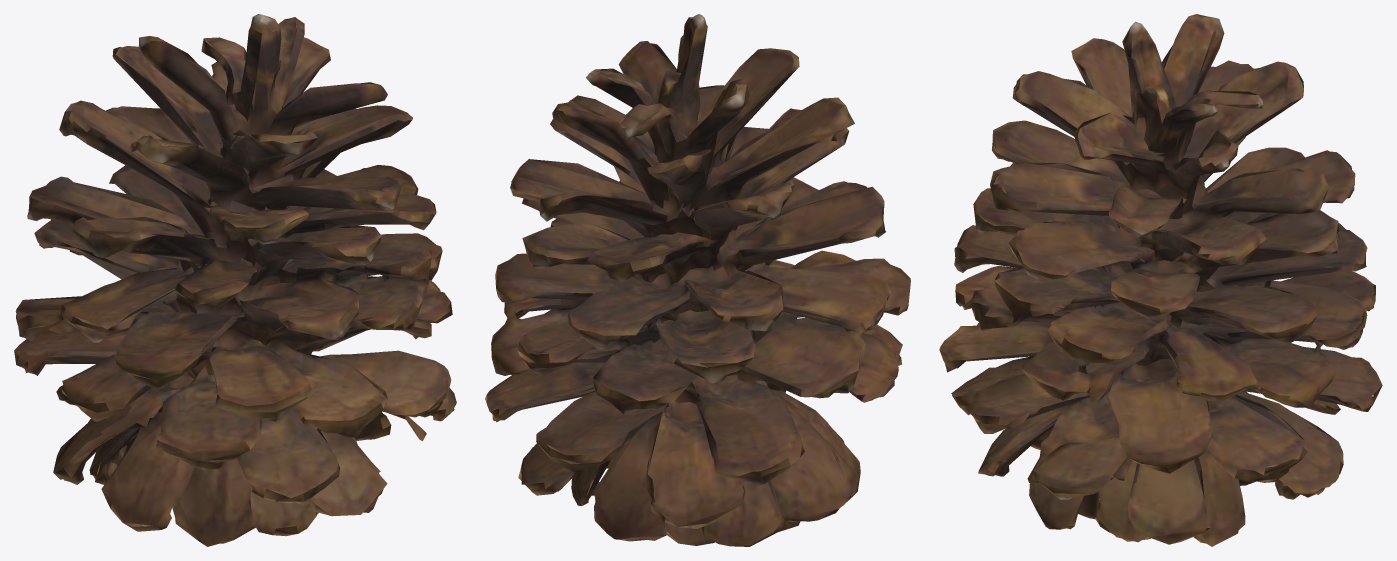
The model's file is pinecone.glb.
3 views of the same model, side by side, from view 1: azimuth 30°, elevation 25°; view 2: azimuth 150°, elevation 25°; view 3: azimuth 270°, elevation 25° (orthographic). The views are drawn at different scales.
Visible parts, largest first — view 1: PineCones001_PineCone01_Geo_LOD1; view 2: PineCones001_PineCone01_Geo_LOD1; view 3: PineCones001_PineCone01_Geo_LOD1.
Part boxes in pixels (box(x1,y1,x2,y2)): PineCones001_PineCone01_Geo_LOD1: box(14, 14, 456, 546); PineCones001_PineCone01_Geo_LOD1: box(485, 14, 910, 546); PineCones001_PineCone01_Geo_LOD1: box(939, 14, 1382, 546).
Bounding box in the file's own units: 2.07 × 2.6 × 2.12.
1 material, 1 textured.
